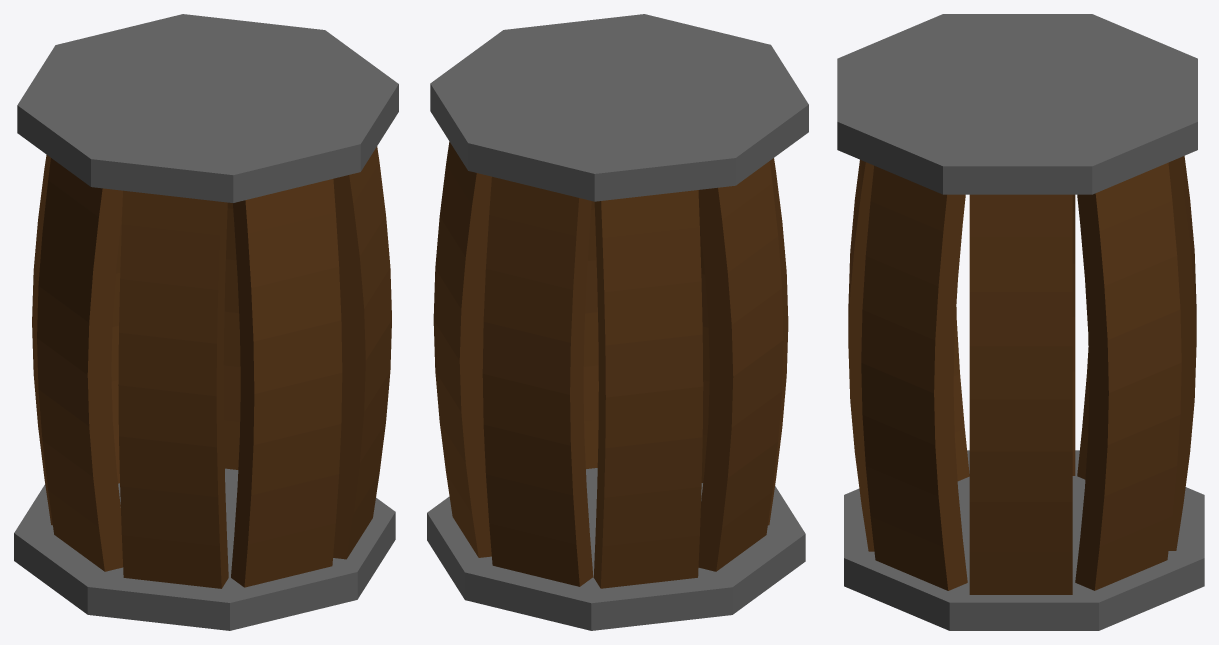
File: Barrel.fbx
3 renders of one model, left to right at view 1: azimuth 30°, elevation 25°; view 2: azimuth 150°, elevation 25°; view 3: azimuth 270°, elevation 25°, orthographic. The views are drawn at different scales.
Visible parts, largest first — view 1: Cylinder.001, Cube.007, Cube.006, Cube, Cylinder, Cube.005, Cube.003, Cube.001, Cube.002; view 2: Cylinder.001, Cube.001, Cube.002, Cube, Cylinder, Cube.003, Cube.005, Cube.007, Cube.006; view 3: Cylinder.001, Cube.004, Cube.003, Cube.005, Cylinder, Cube.002, Cube.006, Cube.007, Cube, Cube.001.
Boxes of the visible parts, x1,y1,x2,y2 form: Cylinder.001: (17,14,398,202); Cube.007: (118,190,228,588); Cube.006: (231,179,342,587); Cube: (37,158,122,571); Cylinder: (14,468,395,630); Cube.005: (333,146,391,559); Cube.003: (223,202,240,469); Cube.001: (32,154,52,525); Cube.002: (111,214,122,483); Cylinder.001: (430,14,808,201); Cube.001: (593,190,703,588); Cube.002: (482,176,593,586); Cube: (698,161,783,571); Cylinder: (427,468,805,630); Cube.003: (433,141,491,557); Cube.005: (583,201,598,468); Cube.007: (768,158,788,525); Cube.006: (699,224,709,482); Cylinder.001: (837,14,1197,194); Cube.004: (969,194,1072,594); Cube.003: (1075,162,1181,590); Cube.005: (861,165,967,590); Cylinder: (844,450,1204,630); Cube.002: (1168,156,1196,550); Cube.006: (848,159,874,551); Cube.007: (953,307,969,481); Cube: (1072,194,1075,475); Cube.001: (1077,347,1089,479).
Size of the model in its own units: 228 by 322 by 231.
